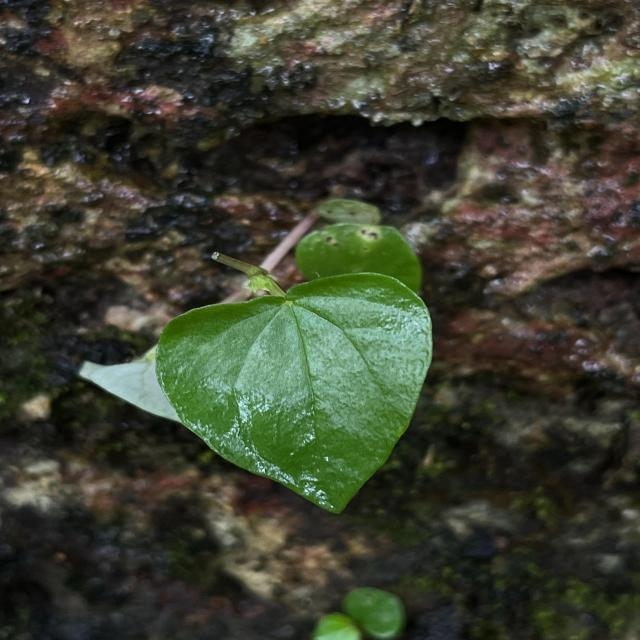Peperomia pellucida: (153, 270, 434, 515)
